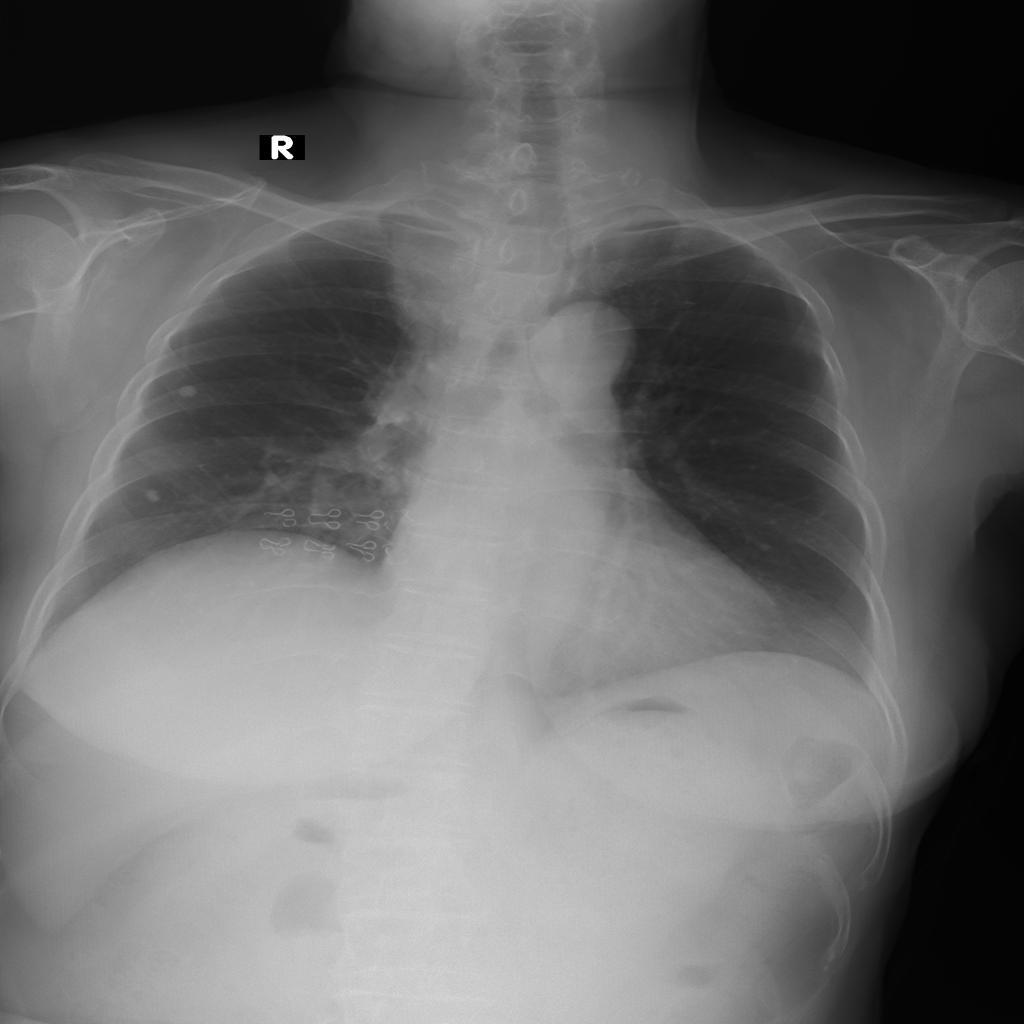Nodule: (178, 383, 199, 399), (143, 487, 161, 501)
